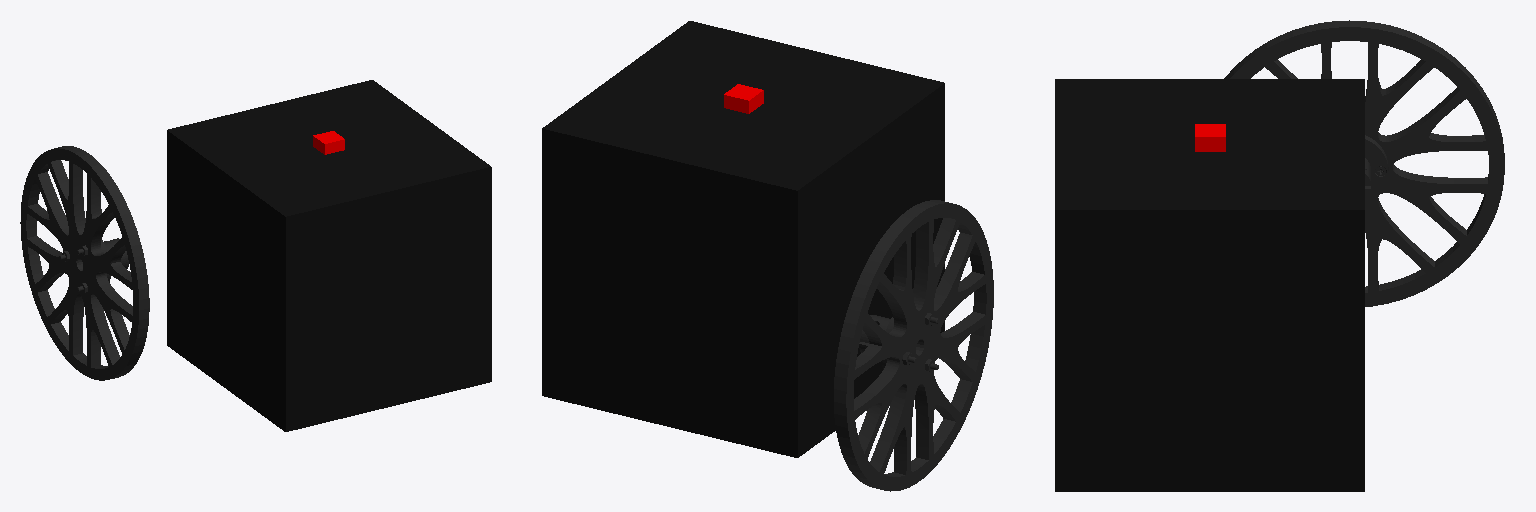
The robot description file, URDF, robot "two_wheeled_robot":
<robot name="two_wheeled_robot">

  <!-- Base Link -->
  <link name="base_link">
    <visual>
      <origin xyz="0 0 0" rpy="0 0 0"/>
      <geometry>
        <box size="0.1 0.1 0.1"/>
      </geometry>
      <material name="base_material">
        <color rgba="0.1 0.1 0.1 1"/>
      </material>
    </visual>
    <collision>
      <origin xyz="0 0 0" rpy="0 0 0"/>
      <geometry>
        <box size="0.1 0.1 0.1"/>
      </geometry>
    </collision>
    <inertial>
      <mass value="0.1"/>
      <origin xyz="0 0 0" rpy="0 0 0"/>
      <inertia ixx="0.01" ixy="0" ixz="0" iyy="0.01" iyz="0" izz="0.01"/>
    </inertial>
  </link>

  <!-- Chassis -->
  <link name="chassis">
    <visual>
      <origin xyz="0 0 0" rpy="0 0 0"/>
      <geometry>
        <mesh filename="package://my_robot/meshes/chassis.stl" scale="1 1 1"/>
      </geometry>
      <material name="chassis_material">
        <color rgba="0.5 0.5 0.5 1"/>
      </material>
    </visual>
  </link>

  <joint name="base_to_chassis_joint" type="fixed">
    <parent link="base_link"/>
    <child link="chassis"/>
    <origin xyz="0 0 0" rpy="0 0 0"/>
  </joint>

  <!-- Right Wheel -->
  <link name="right_wheel">
    <visual>
      <origin xyz="0.095 0.05 0" rpy="0 0 0"/>
      <geometry>
        <mesh filename="package://my_robot/meshes/right_wheel.stl" scale="1 1 1"/>
      </geometry>
      <material name="wheel_material">
        <color rgba="0.2 0.2 0.2 1"/>
      </material>
    </visual>
  </link>

  <joint name="right_wheel_joint" type="continuous">
    <parent link="chassis"/>
    <child link="right_wheel"/>
    <origin xyz="0 0 0" rpy="0 0 0"/>
    <axis xyz="0 0 1"/>
  </joint>

  <!-- Left Wheel -->
  <link name="left_wheel">
    <visual>
      <origin xyz="-0.095 .045 0" rpy="0 0 3.14159"/>
      <geometry>
        <mesh filename="package://my_robot/meshes/left_wheel.stl" scale="1 1 1"/>
      </geometry>
      <material name="wheel_material">
        <color rgba="0.2 0.2 0.2 1"/>
      </material>
    </visual>
  </link>

  <joint name="left_wheel_joint" type="continuous">
    <parent link="chassis"/>
    <child link="left_wheel"/>
    <origin xyz="0 0 0" rpy="0 0 0"/>
    <axis xyz="0 0 1"/>
  </joint>

  <!-- Dummy Link -->
  <link name="dummy_link">
    <visual>
      <geometry>
        <box size="0.01 0.01 0.01"/> <!-- Small box instead of sphere -->
      </geometry>
      <material name="dummy_material">
        <color rgba="1 0 0 1"/> <!-- Red color for visibility -->
      </material>
    </visual>
  </link>

  <!-- Fixed Joint connecting base_link to dummy_link -->
  <joint name="base_to_dummy_joint" type="fixed">
    <parent link="base_link"/>
    <child link="dummy_link"/>
    <origin xyz="0 0 0.05" rpy="0 0 0"/> <!-- Offset the dummy link slightly along the z-axis -->
  </joint>

</robot>

--- Render facts (derived) ---
Views: 3 orthographic renders of the robot side by side, from view 1: azimuth 30°, elevation 25°; view 2: azimuth 150°, elevation 25°; view 3: azimuth 270°, elevation 25°.
Model two_wheeled_robot with 5 links and 4 joints (2 continuous, 2 fixed), rooted at base_link, posed all joints at 0.
Visible links, largest first — view 1: base_link, left_wheel, dummy_link; view 2: base_link, left_wheel, dummy_link; view 3: base_link, left_wheel, dummy_link.
Link boxes in pixels (box(x1,y1,x2,y2)): base_link: box(167, 80, 491, 431); left_wheel: box(20, 146, 149, 380); dummy_link: box(313, 131, 344, 154); base_link: box(542, 21, 944, 457); left_wheel: box(834, 200, 993, 491); dummy_link: box(724, 84, 763, 113); base_link: box(1055, 79, 1364, 491); left_wheel: box(1224, 20, 1504, 306); dummy_link: box(1195, 124, 1225, 151).
Bounding box of the posed robot: 0.149 × 0.145 × 0.105 m (x, y, z).
1 mesh visuals loaded from 3 distinct referenced files (1 binary STL); not drawn: 2 (file found but could not be loaded).